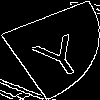Y: (24, 25, 92, 82)
